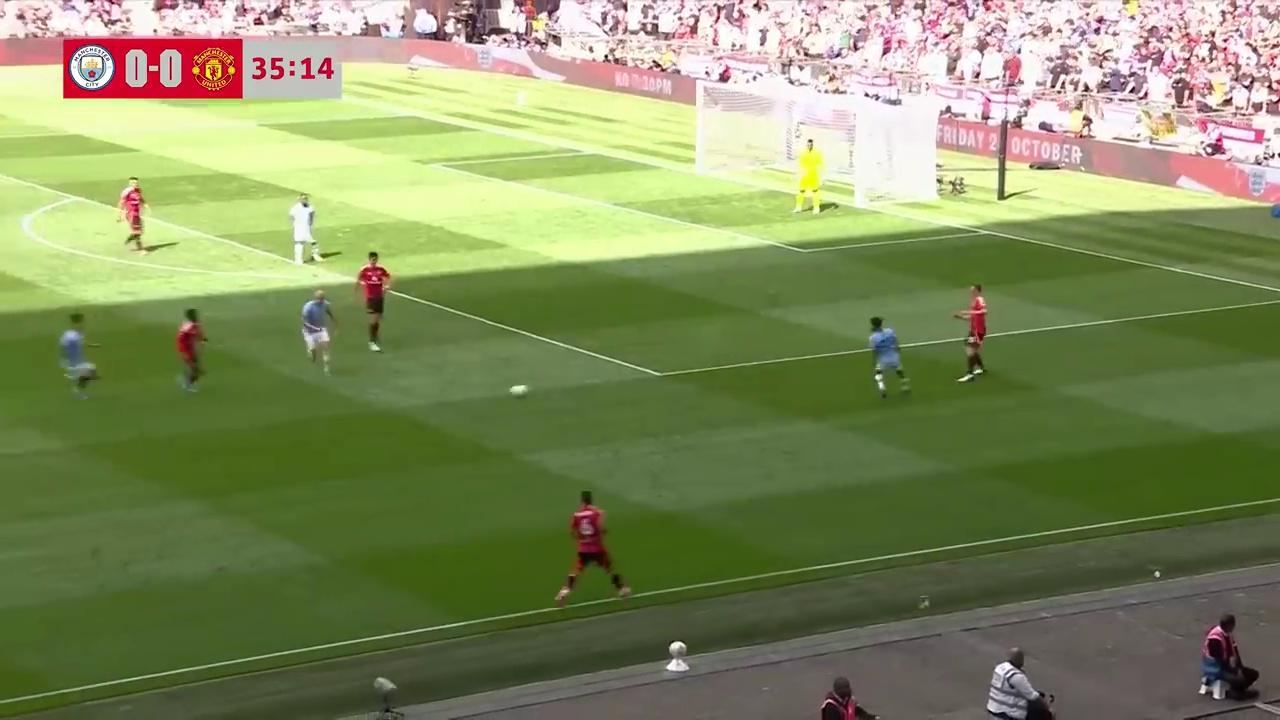ball: (505, 380, 531, 398)
player: (553, 491, 628, 604), (353, 251, 391, 349), (951, 283, 988, 383), (867, 316, 911, 400), (58, 315, 99, 399), (300, 288, 338, 374), (175, 309, 207, 393), (791, 138, 823, 216), (116, 177, 149, 252), (288, 194, 321, 265)
